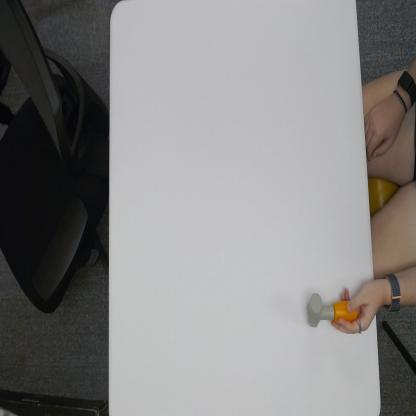Hammer: (307, 293, 357, 329)
Hand: (336, 279, 386, 333)
